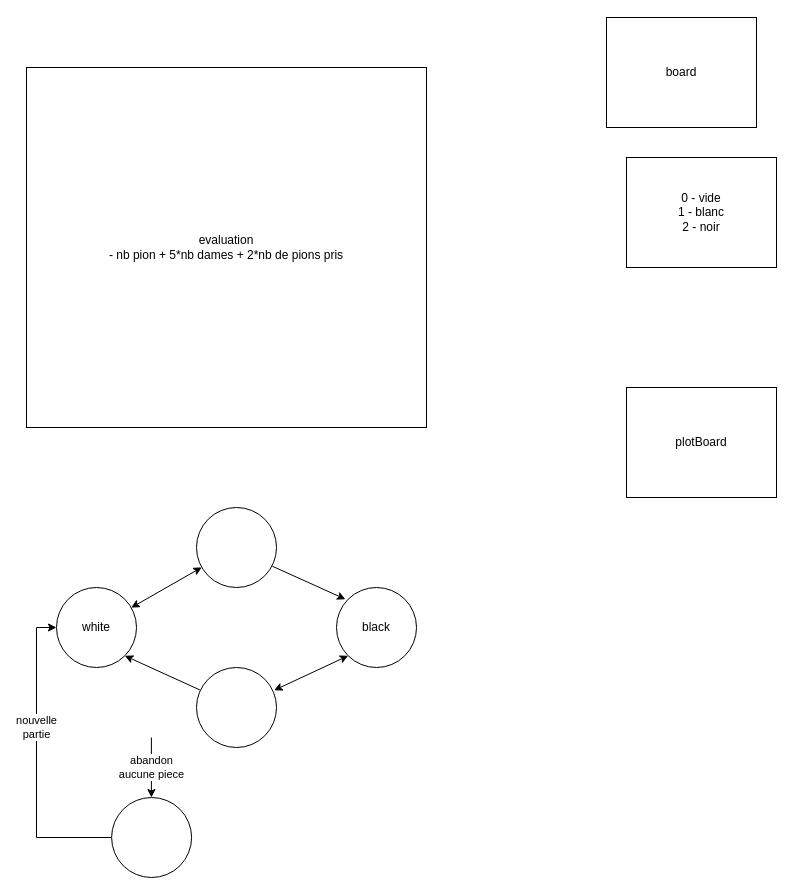
The diagram is 794 pixels wide and 895 high, and some of its shapes have lost their labels. The shapes that lost their labels are listed below. From the top down, each one's centre as x and y in pixels, then its label:
At (x=236, y=547): "whiteChecking".
At (x=236, y=707): "blackChecking".
At (x=151, y=837): "end".
